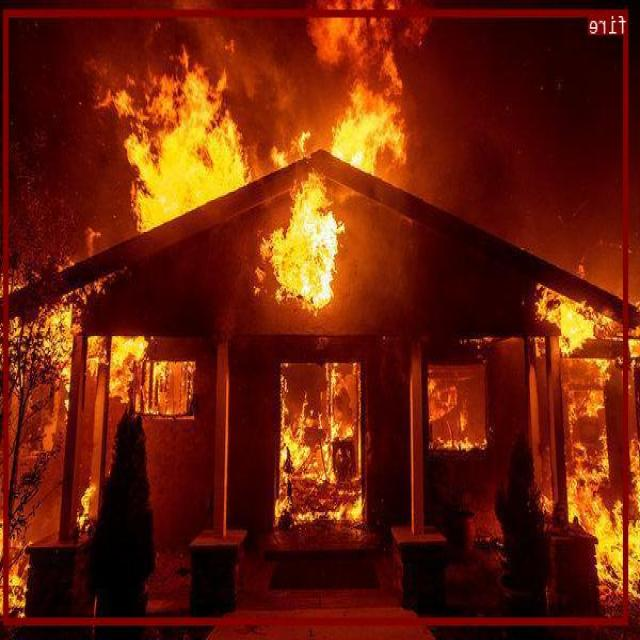fire: (4, 8, 629, 623)
